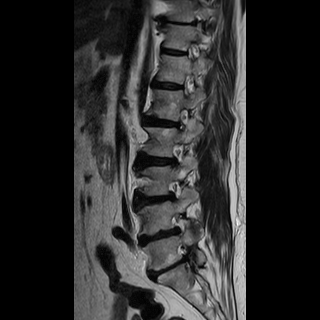RFS0: (161, 211, 190, 244), (166, 136, 190, 172), (164, 173, 188, 206), (171, 103, 194, 135)
